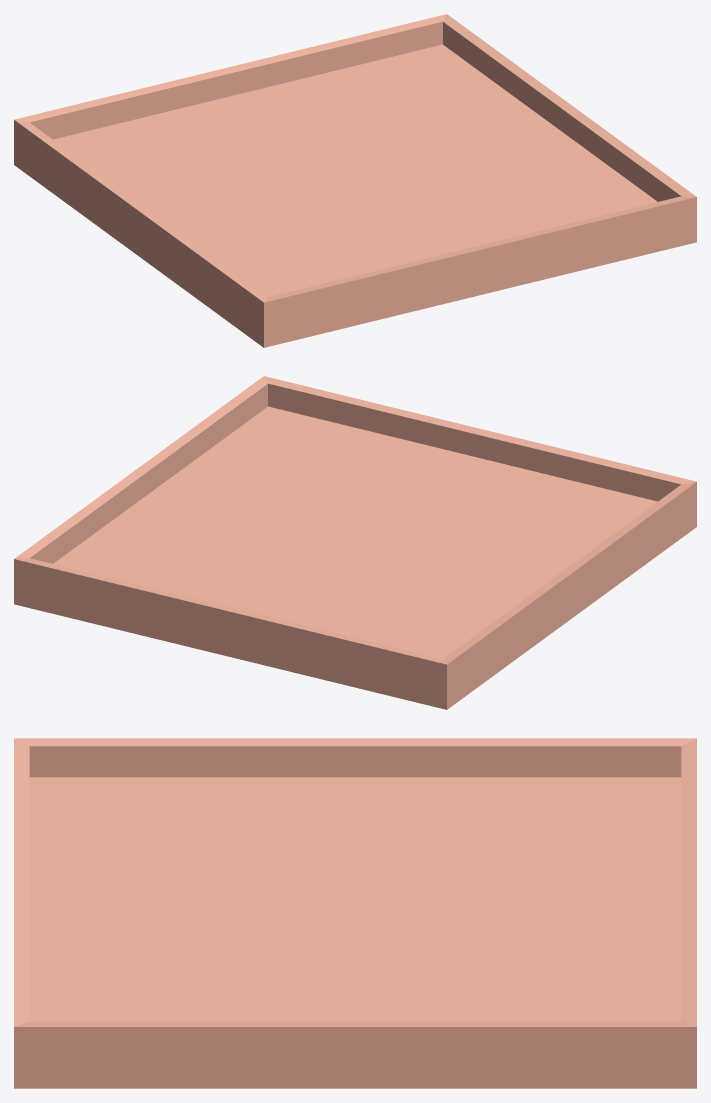
3 renders of one model, top to bottom at view 1: azimuth 30°, elevation 25°; view 2: azimuth 150°, elevation 25°; view 3: azimuth 270°, elevation 25°, orthographic. The views are drawn at different scales.
Visible parts, largest first — view 1: Cube; view 2: Cube; view 3: Cube.
Part boxes in pixels (<box>): Cube: <box>14,14,696,347</box>; Cube: <box>14,376,696,709</box>; Cube: <box>14,738,696,1088</box>.
Bounding box in the file's own units: 30 × 3 × 30.
